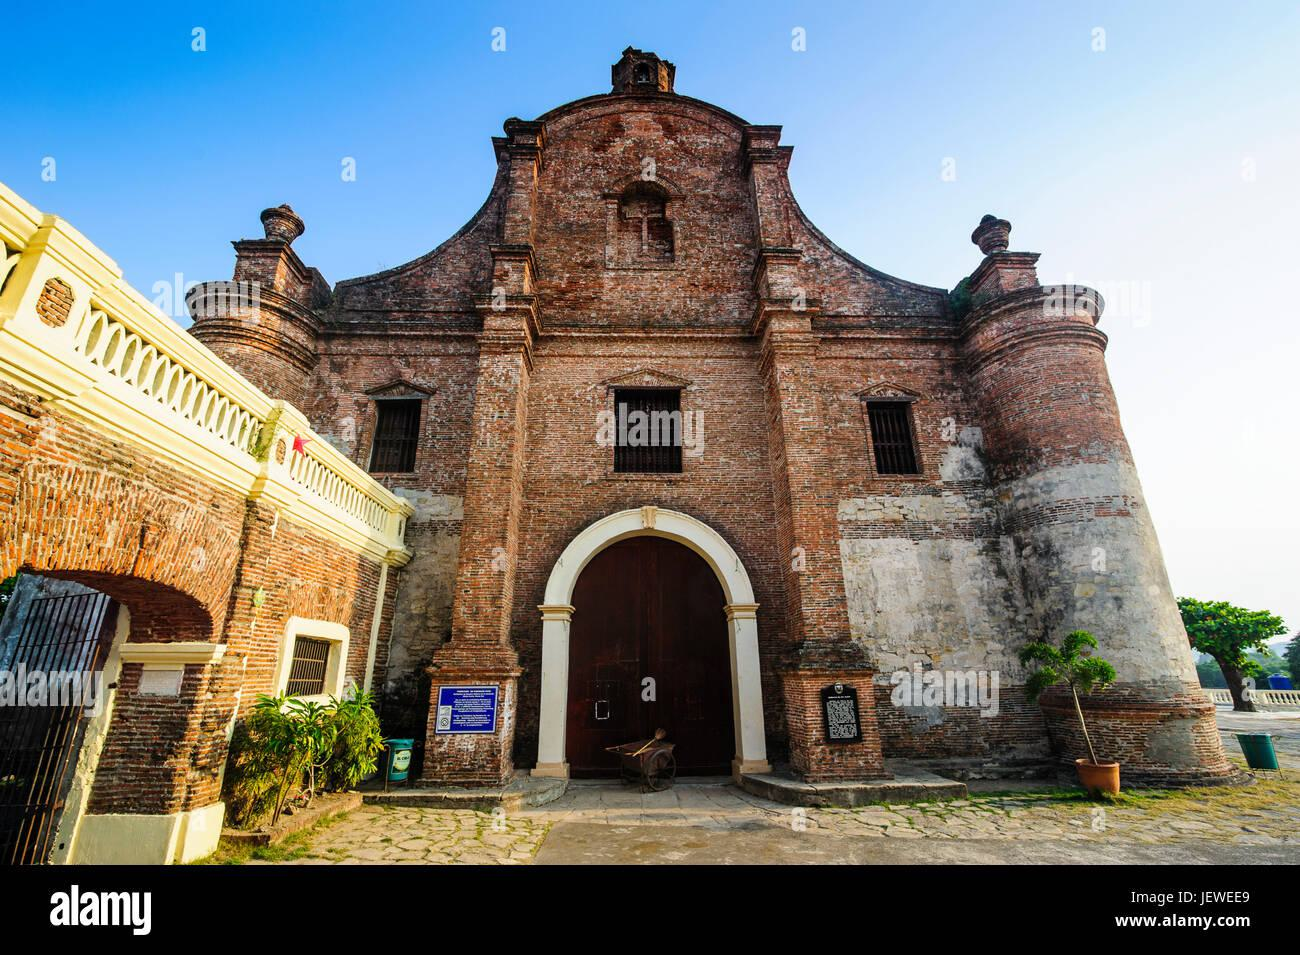Sta. Maria Church: (196, 51, 1228, 788)
Unfinished Paint: (822, 466, 1206, 703)
